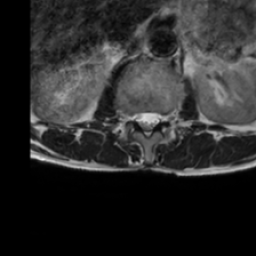CCS_normal: (142, 104, 151, 143)
LFS_normal: (160, 104, 168, 129)
LLS_normal: (151, 104, 160, 134)
RFS_normal: (126, 104, 134, 130)
RLS_normal: (134, 103, 142, 135)
